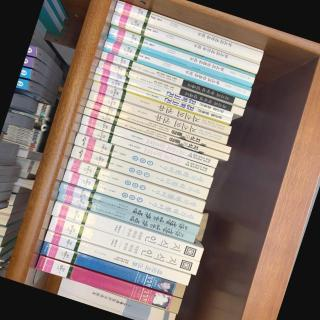book-spine: (109, 11, 260, 75), (102, 38, 252, 101), (113, 0, 264, 62), (50, 201, 203, 262), (107, 26, 255, 88), (47, 216, 199, 275), (97, 60, 244, 117), (100, 51, 246, 108), (43, 231, 191, 286), (85, 99, 232, 154), (61, 170, 203, 226), (82, 107, 229, 161), (73, 133, 213, 189), (87, 90, 229, 145), (65, 158, 206, 213), (57, 182, 200, 236), (69, 145, 209, 200), (90, 81, 232, 135), (34, 255, 172, 310), (40, 242, 176, 296), (80, 115, 218, 168), (94, 67, 233, 119), (77, 124, 215, 176), (56, 192, 196, 243), (92, 74, 232, 124)
